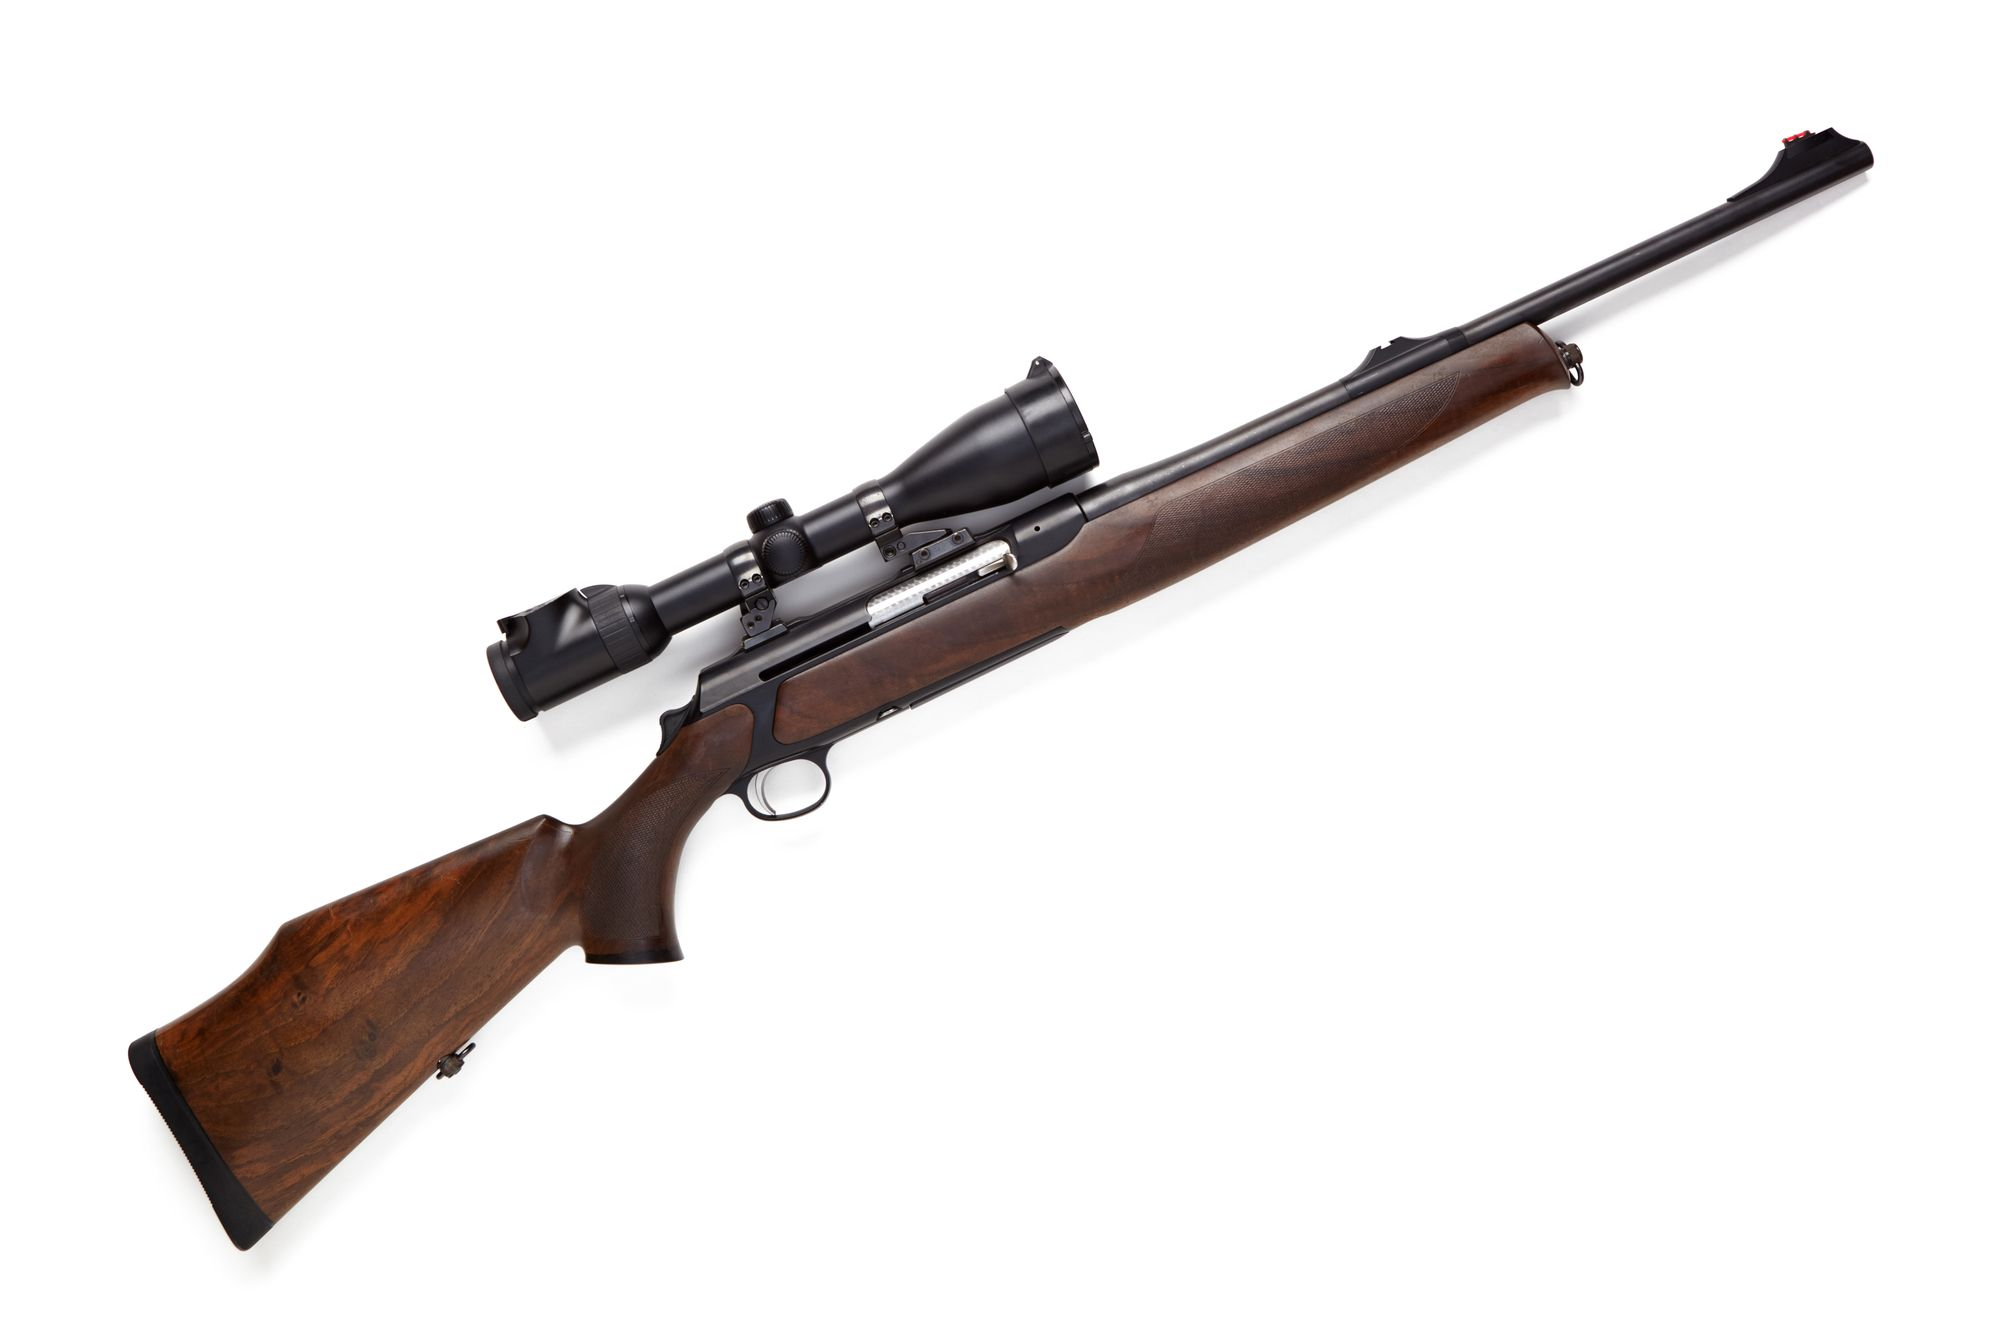Arma Real: (125, 118, 1854, 1256)
